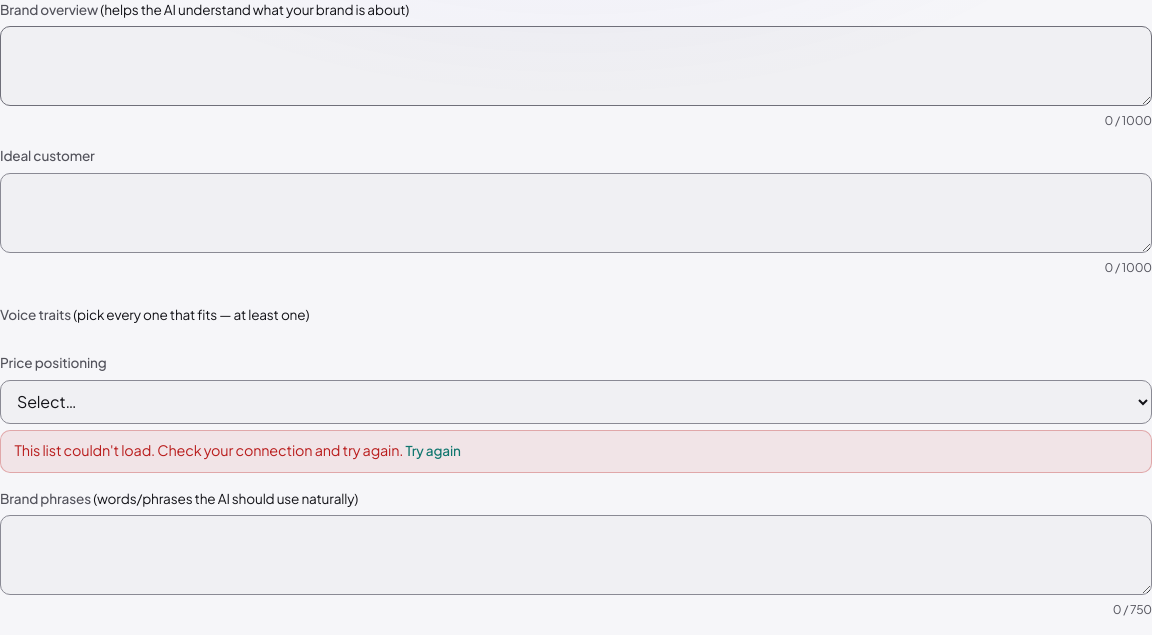
Test: BrandProfileForm — when the option lists cannot load › loads the choices when Try again works
What coordinates should you click on to do the following:
click the button "Try again"
I would click on:
 (433, 452)
Its box is [406, 441, 461, 462].
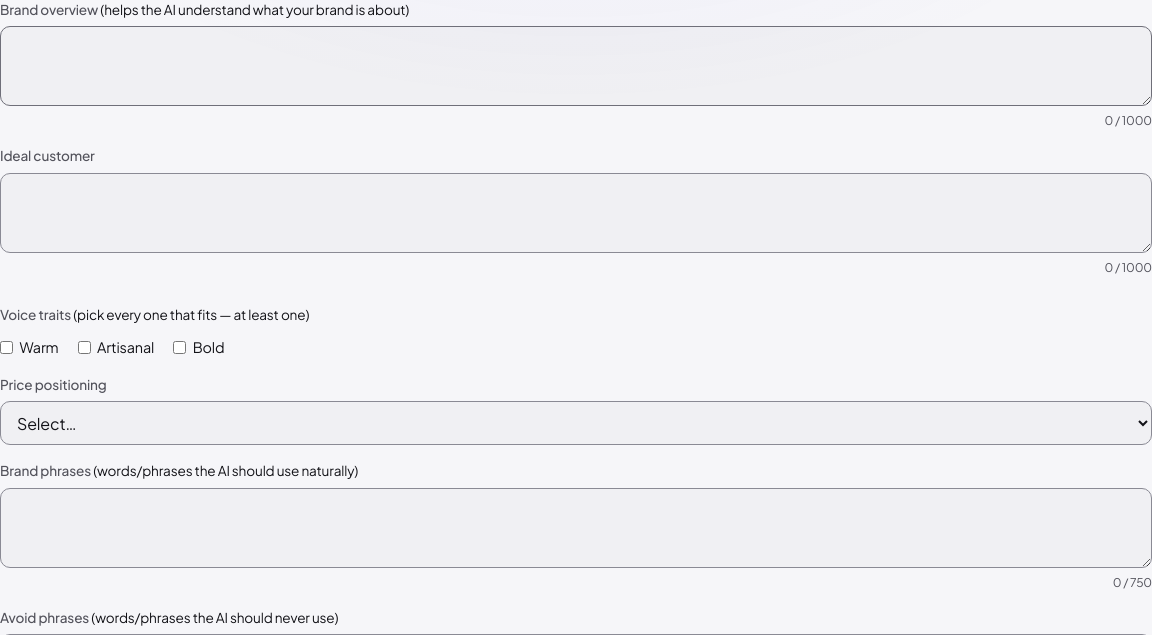
expect the checkbox labelled "Warm" is shown: met, box [0, 342, 13, 354]
expect the message "This list couldn't load. Check your connection and try again. Try again" is gone: met
